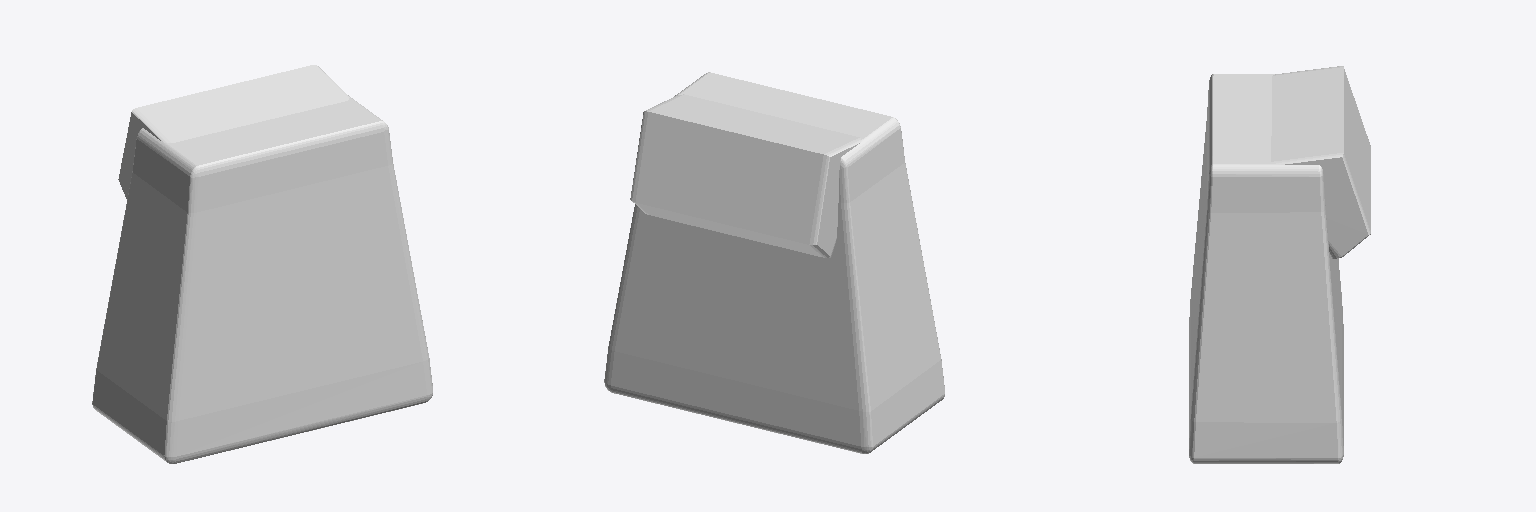
The model's file is bag.obj.
3 views of the same model, side by side, from view 1: azimuth 30°, elevation 25°; view 2: azimuth 150°, elevation 25°; view 3: azimuth 270°, elevation 25° (orthographic).
Parts seen in each view (by area): view 1: 000_Merged_Objects; view 2: 000_Merged_Objects; view 3: 000_Merged_Objects.
Part boxes in pixels (bbox=[...]): 000_Merged_Objects: bbox=[92, 65, 432, 463]; 000_Merged_Objects: bbox=[604, 72, 944, 453]; 000_Merged_Objects: bbox=[1189, 66, 1370, 463].
Bounding box in the file's own units: 2.48 × 2.58 × 1.46.